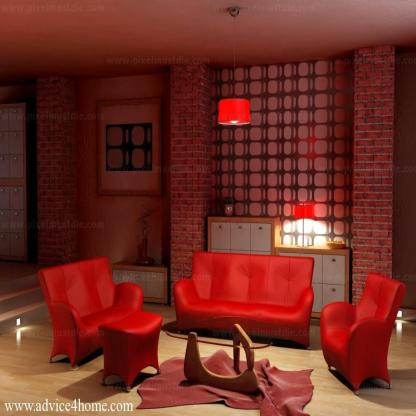other: (211, 88, 258, 140), (286, 199, 320, 244)
